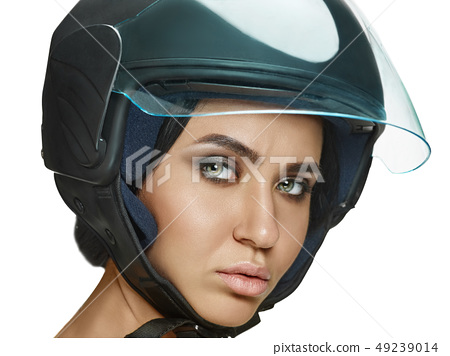helmet: (40, 5, 379, 209)
